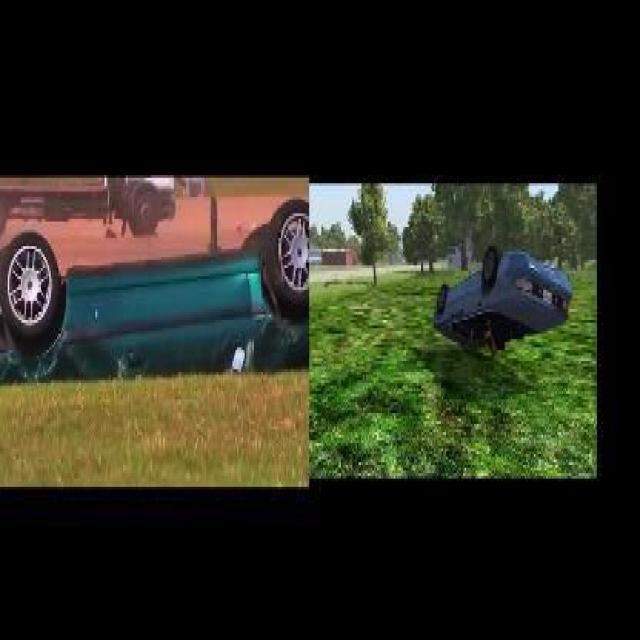accident: (1, 175, 312, 369), (428, 235, 566, 358)
